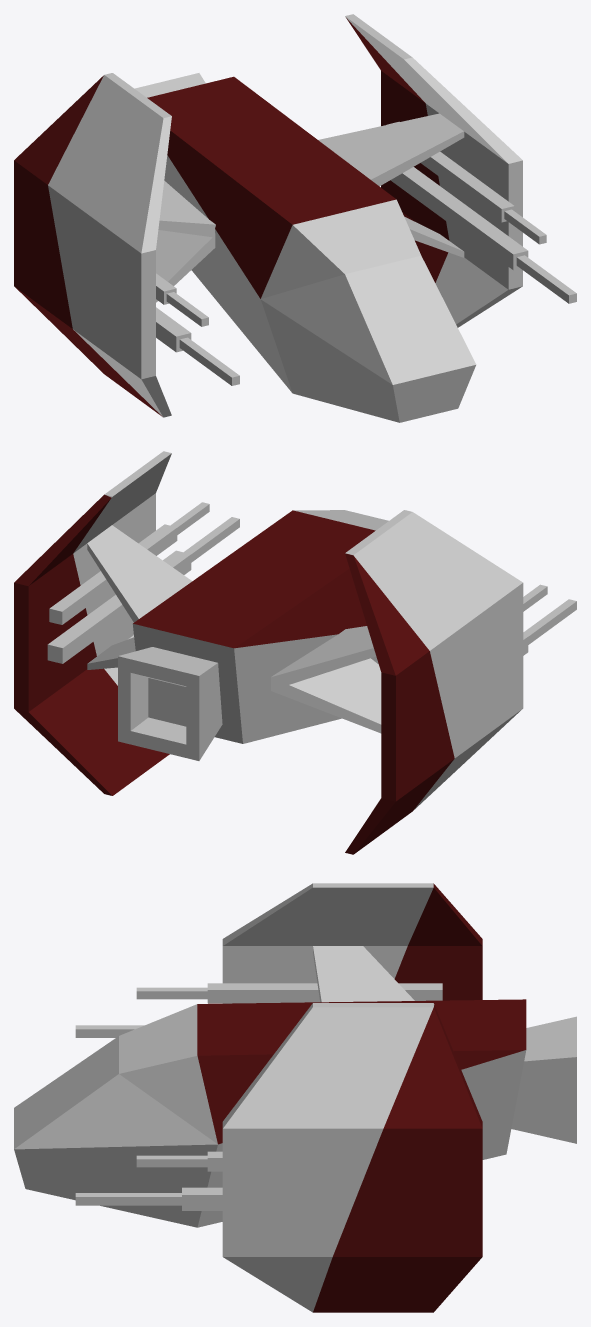
The model's file is spaceship2.obj.
3 renders of one model, top to bottom at view 1: azimuth 30°, elevation 25°; view 2: azimuth 150°, elevation 25°; view 3: azimuth 270°, elevation 25°, orthographic.
Parts seen in each view (by area): view 1: spaceship; view 2: spaceship; view 3: spaceship.
Boxes of the visible parts, left/top/right/bottom form: spaceship: left=14, top=14, right=576, bottom=422; spaceship: left=14, top=451, right=576, bottom=854; spaceship: left=14, top=883, right=576, bottom=1312.
Bounding box in the file's own units: 337 × 253 × 422.
